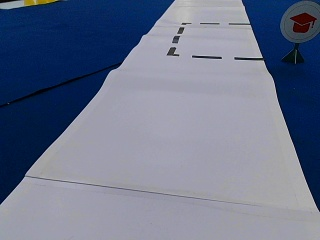school: (279, 2, 318, 43)
